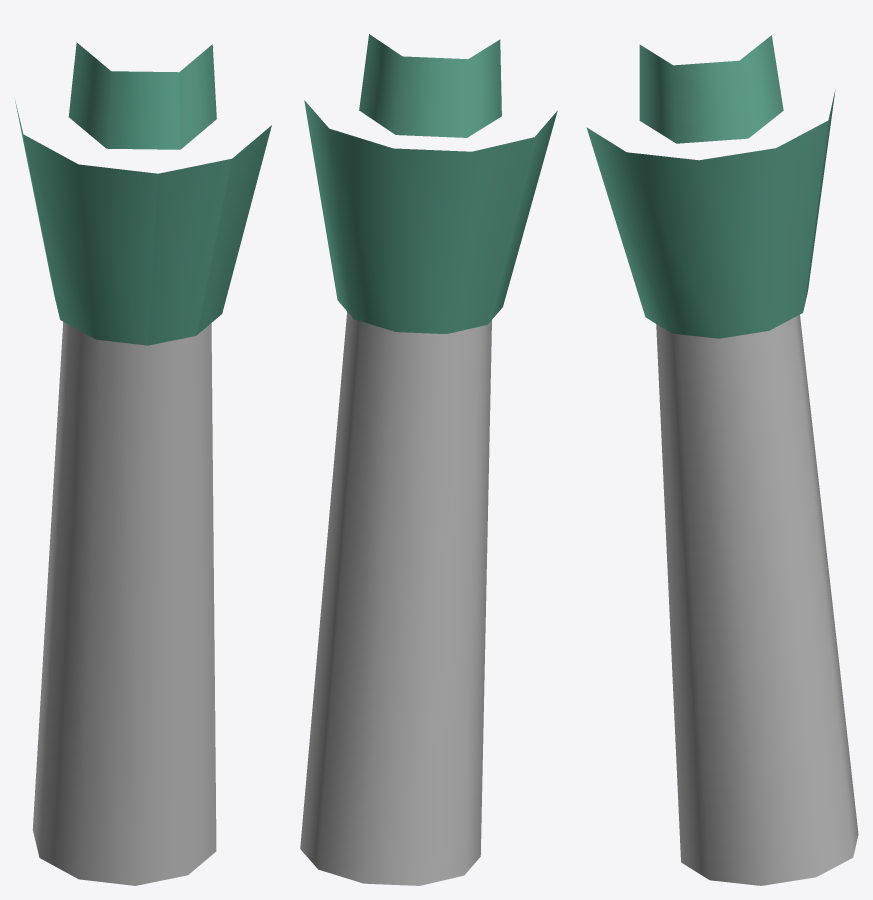
File: MarkerC.glb
3 renders of one model, left to right at view 1: azimuth 30°, elevation 25°; view 2: azimuth 150°, elevation 25°; view 3: azimuth 270°, elevation 25°, orthographic. The views are drawn at different scales.
Parts seen in each view (by area): view 1: MarkerC; view 2: MarkerC; view 3: MarkerC.
Part boxes in pixels (x1,y1,x2,y2): MarkerC: (14,42,271,885); MarkerC: (300,34,557,885); MarkerC: (586,35,858,885).
Bounding box in the file's own units: 0.0674 × 0.2372 × 0.0719.
